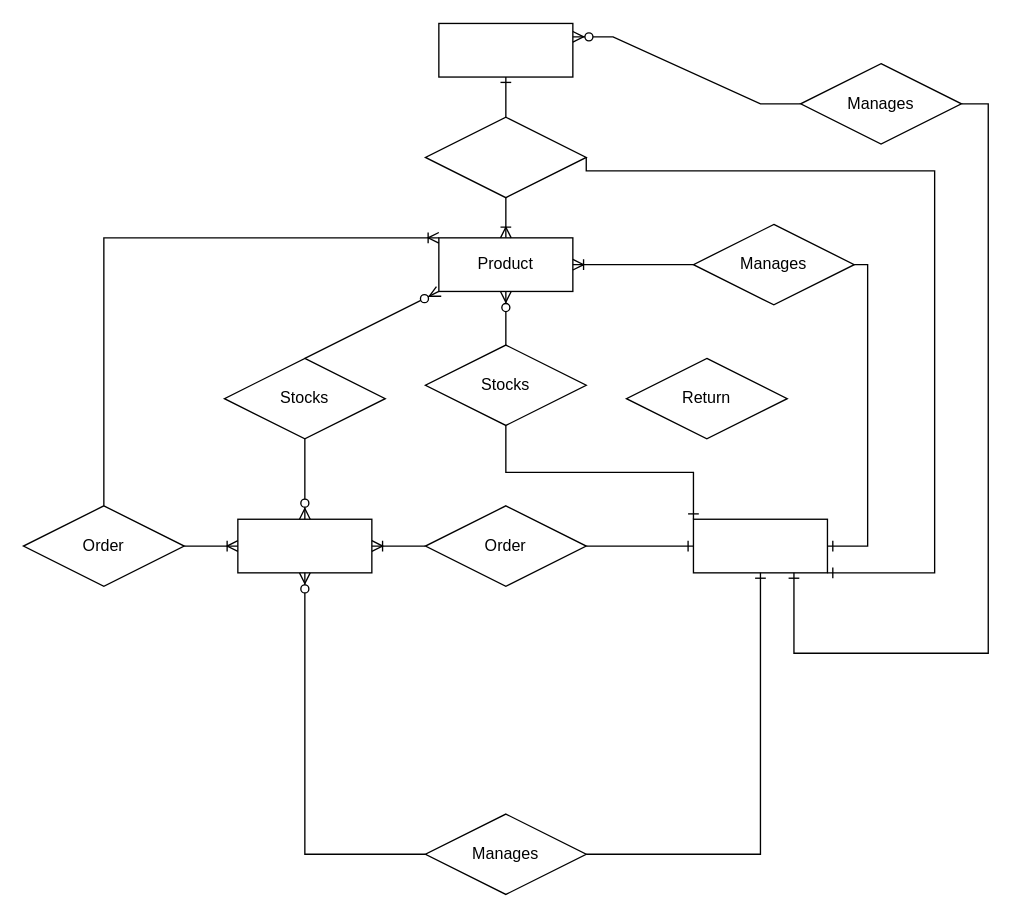
This 1022x918 diagram has some shape labels left out. Each missing label, with the centre of its shape:
"Customers" belongs at (x=505, y=49).
"Employee" belongs at (x=759, y=545).
"Sell" belongs at (x=505, y=157).
"Supplier" belongs at (x=304, y=545).
